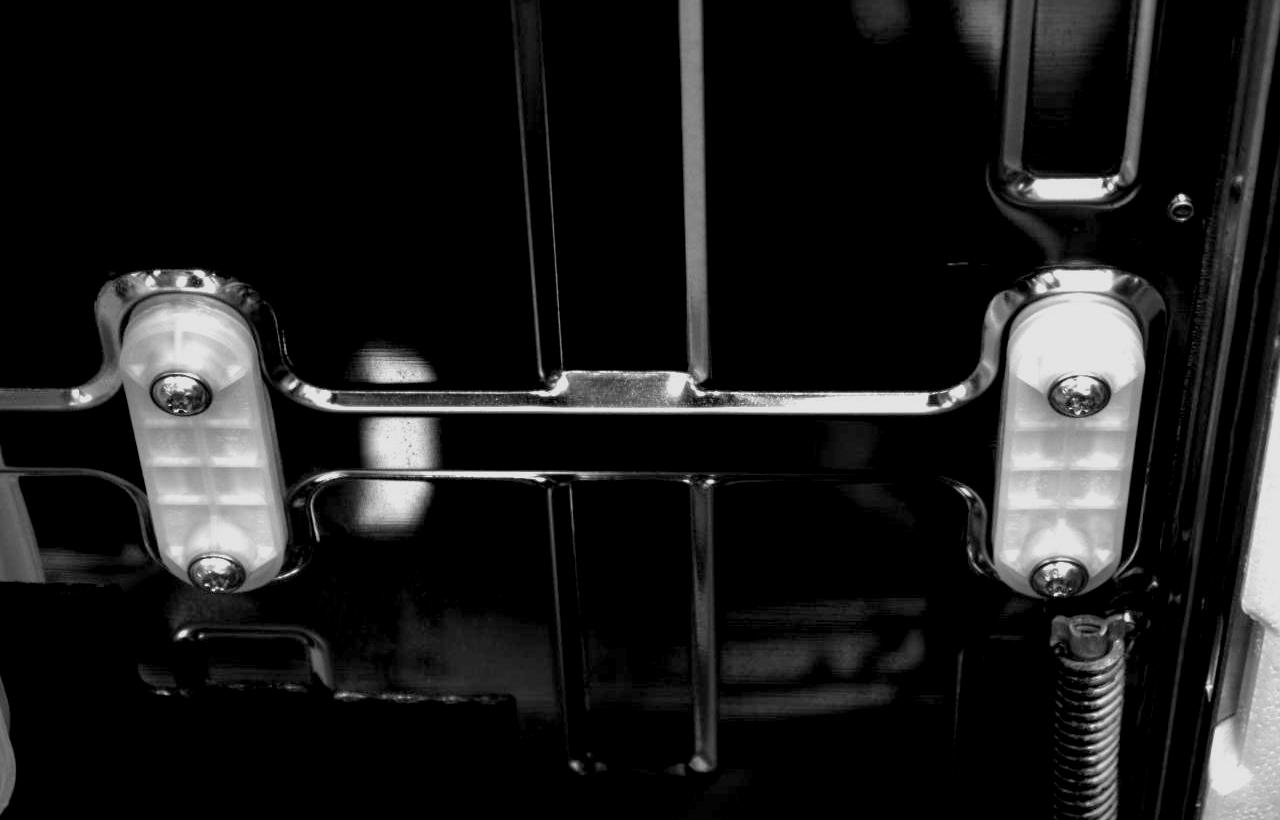vida-ok: (143, 364, 214, 431), (1047, 365, 1114, 432), (181, 539, 247, 598), (1027, 545, 1093, 604)
